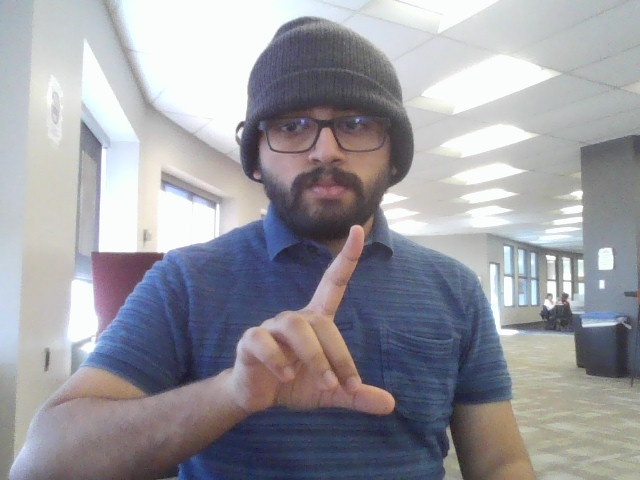one: (219, 218, 410, 442)
